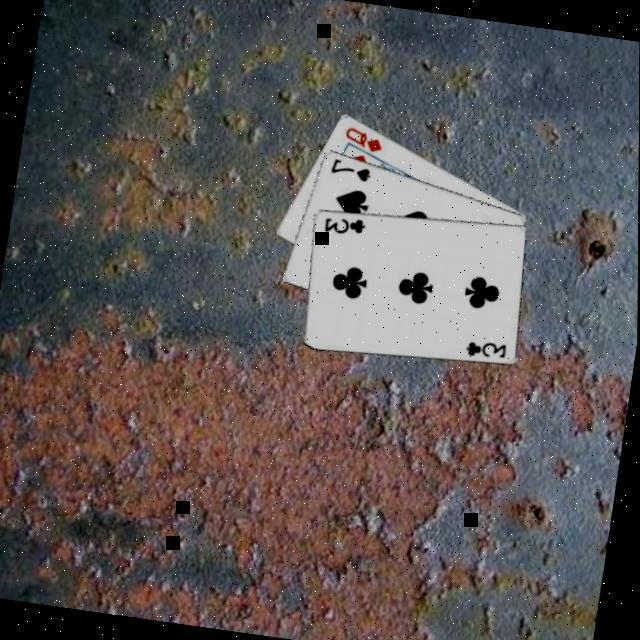3C: (320, 214, 370, 242), (462, 338, 512, 366)
7S: (327, 156, 376, 188)
QD: (341, 124, 388, 158)
